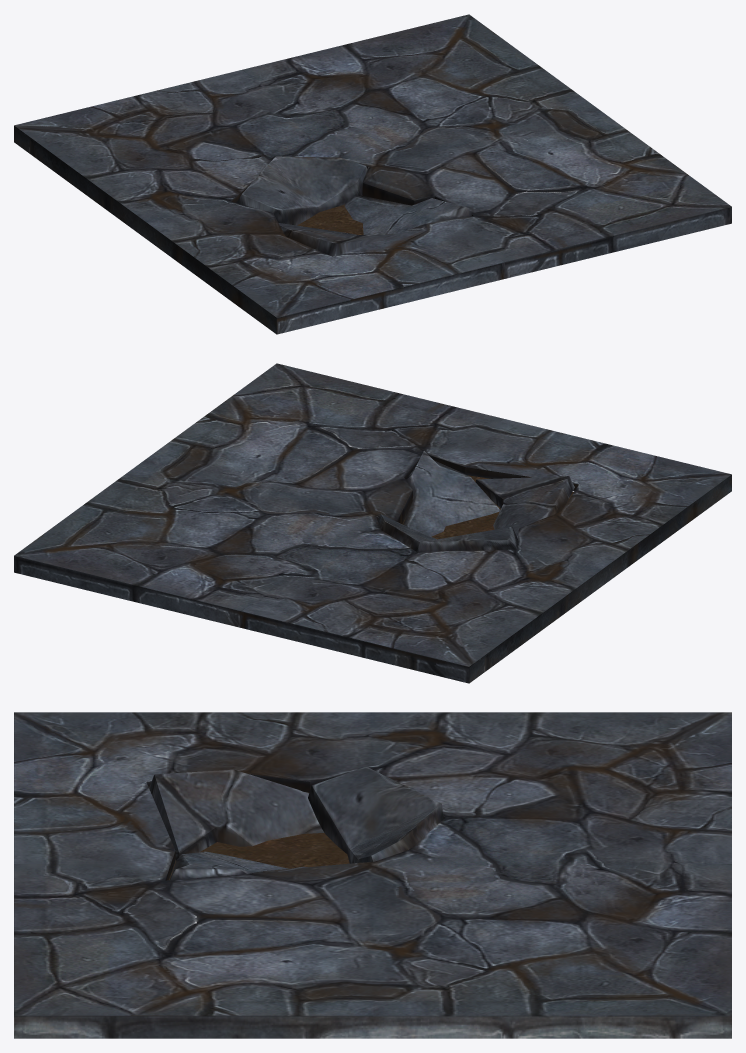
The model's file is B_shitoudimian05.fbx.
3 renders of one model, top to bottom at view 1: azimuth 30°, elevation 25°; view 2: azimuth 150°, elevation 25°; view 3: azimuth 270°, elevation 25°, orthographic. The views are drawn at different scales.
Parts seen in each view (by area): view 1: B_shitoudimian05; view 2: B_shitoudimian05; view 3: B_shitoudimian05.
Boxes of the visible parts, box(x1,y1,x2,y2) form: B_shitoudimian05: box(14, 14, 731, 334); B_shitoudimian05: box(14, 363, 731, 683); B_shitoudimian05: box(14, 712, 731, 1038).
Size of the model in its own units: 443 by 43.62 by 443.
